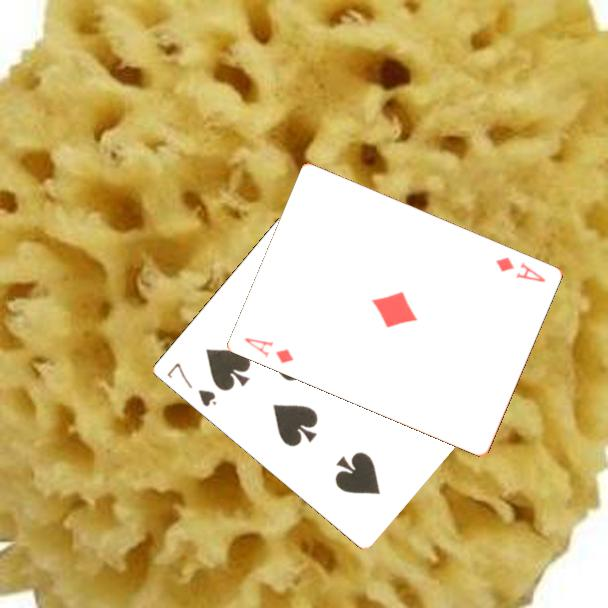d01: (492, 253, 549, 285), (241, 334, 297, 366)
s07: (163, 359, 219, 410)
